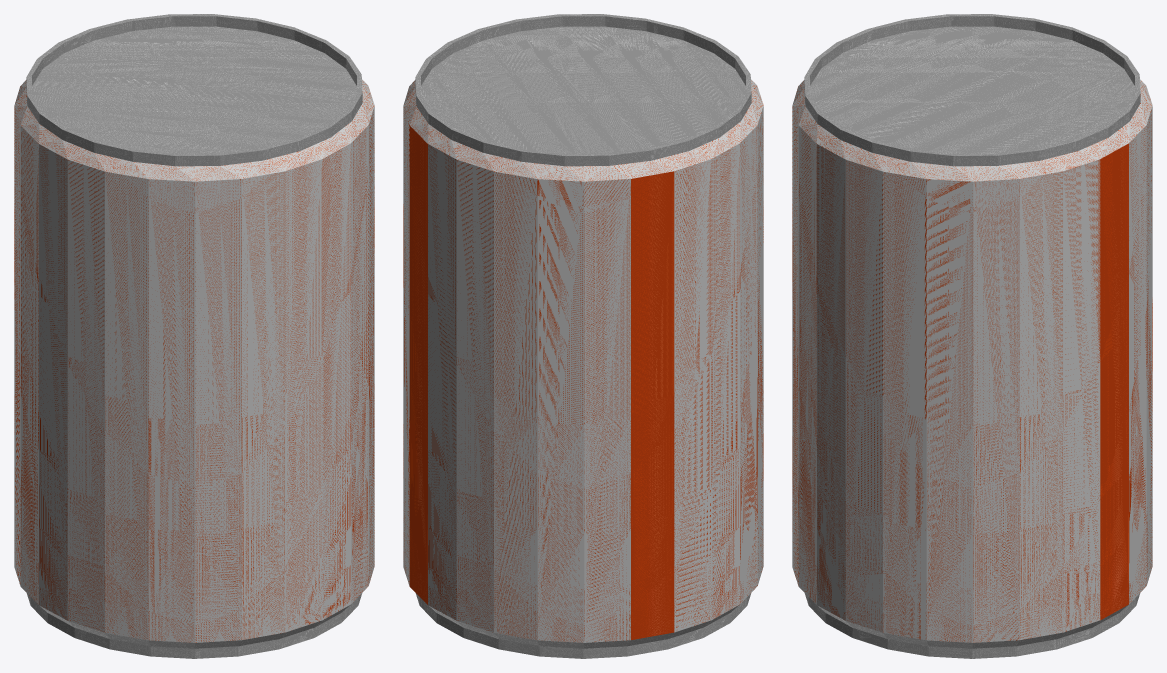
3 views of the same model, side by side, from view 1: azimuth 30°, elevation 25°; view 2: azimuth 150°, elevation 25°; view 3: azimuth 270°, elevation 25° (orthographic).
Parts seen in each view (by area): view 1: mesh1_mesh1-geometry; view 2: mesh1_mesh1-geometry; view 3: mesh1_mesh1-geometry.
Boxes of the visible parts, left/top/right/bottom form: mesh1_mesh1-geometry: left=14, top=14, right=374, bottom=658; mesh1_mesh1-geometry: left=403, top=14, right=763, bottom=658; mesh1_mesh1-geometry: left=792, top=14, right=1152, bottom=658.
Size of the model in its own units: 0.4786 by 0.7361 by 0.4786.
